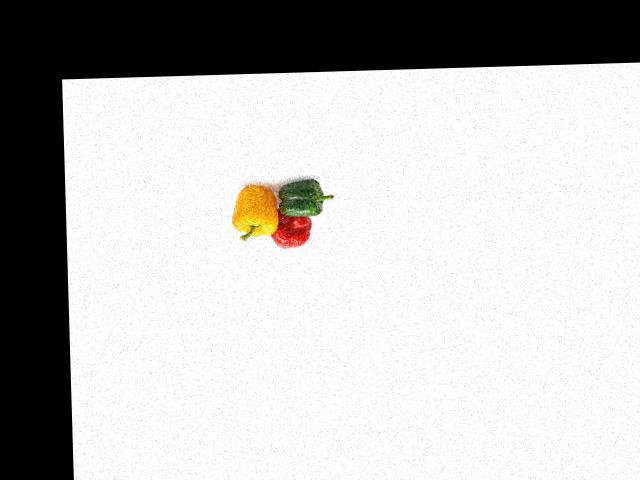bell_pepper: (268, 178, 329, 222)
